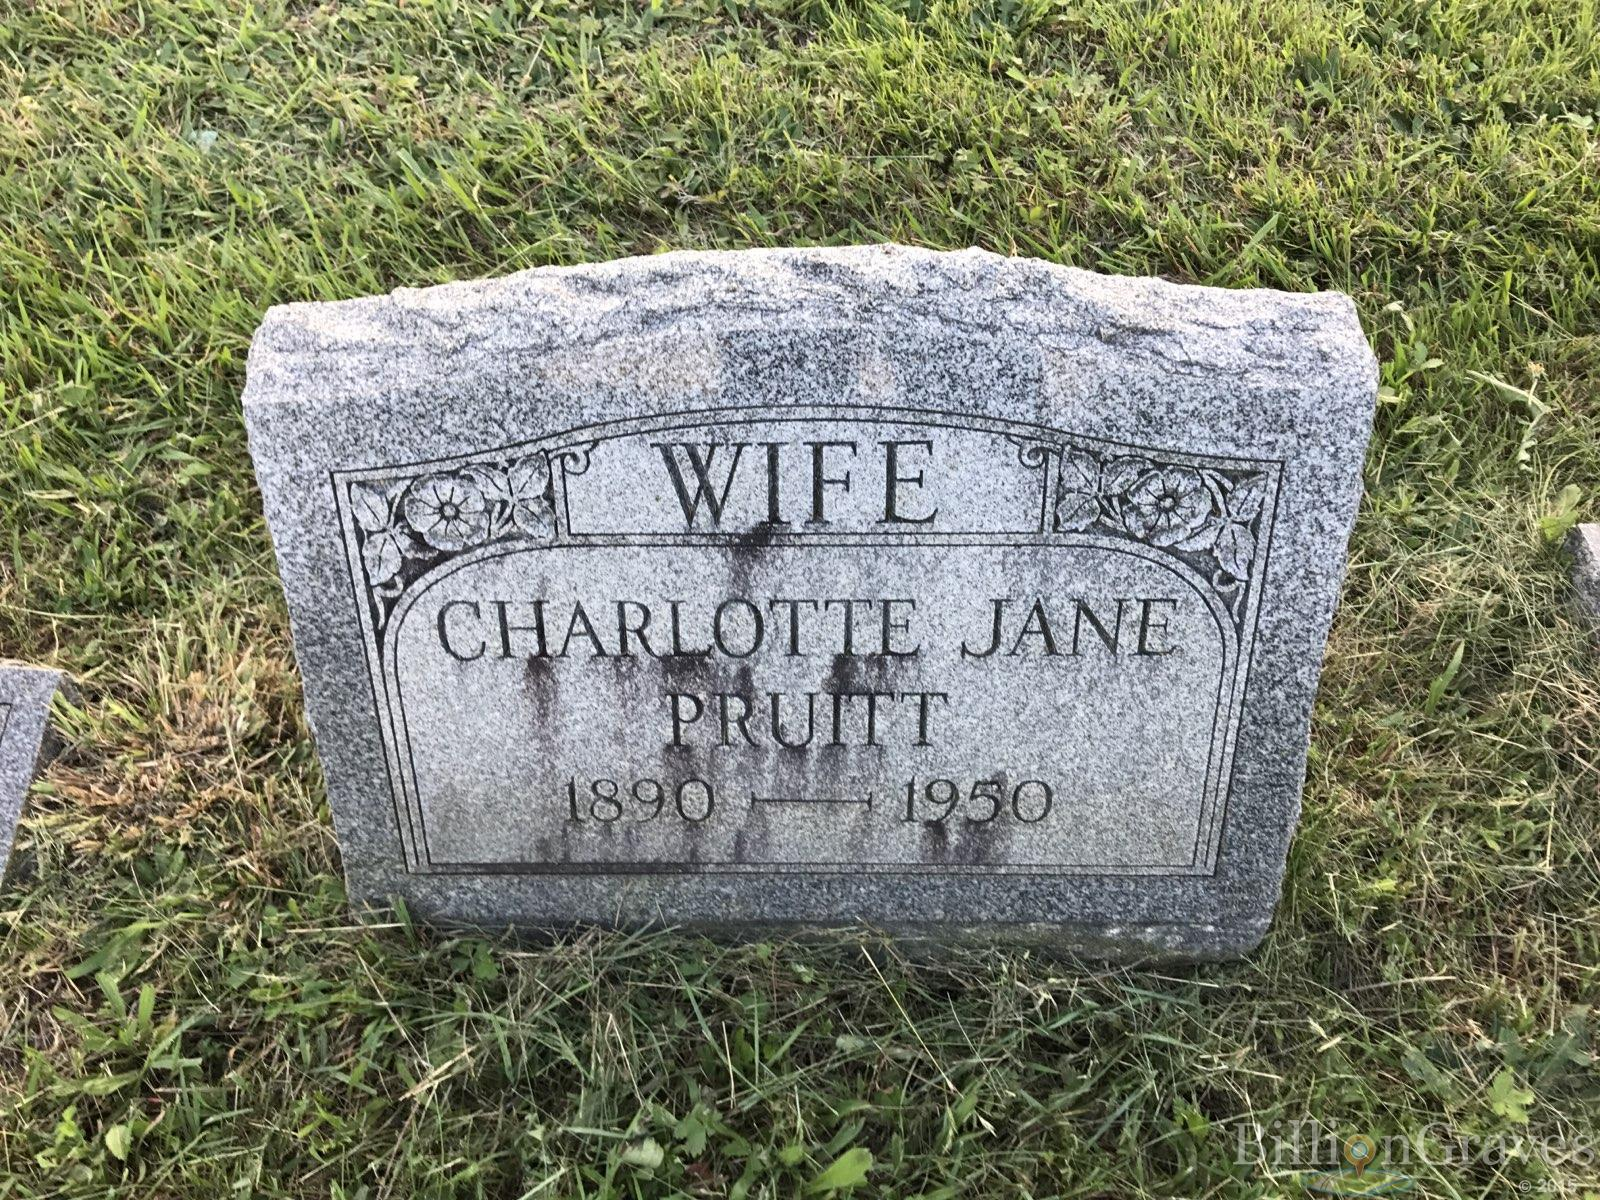upright: (214, 209, 1377, 993)
